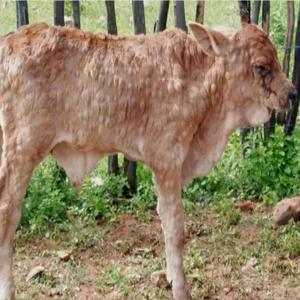lumpy skin diesease: (0, 19, 297, 299)
